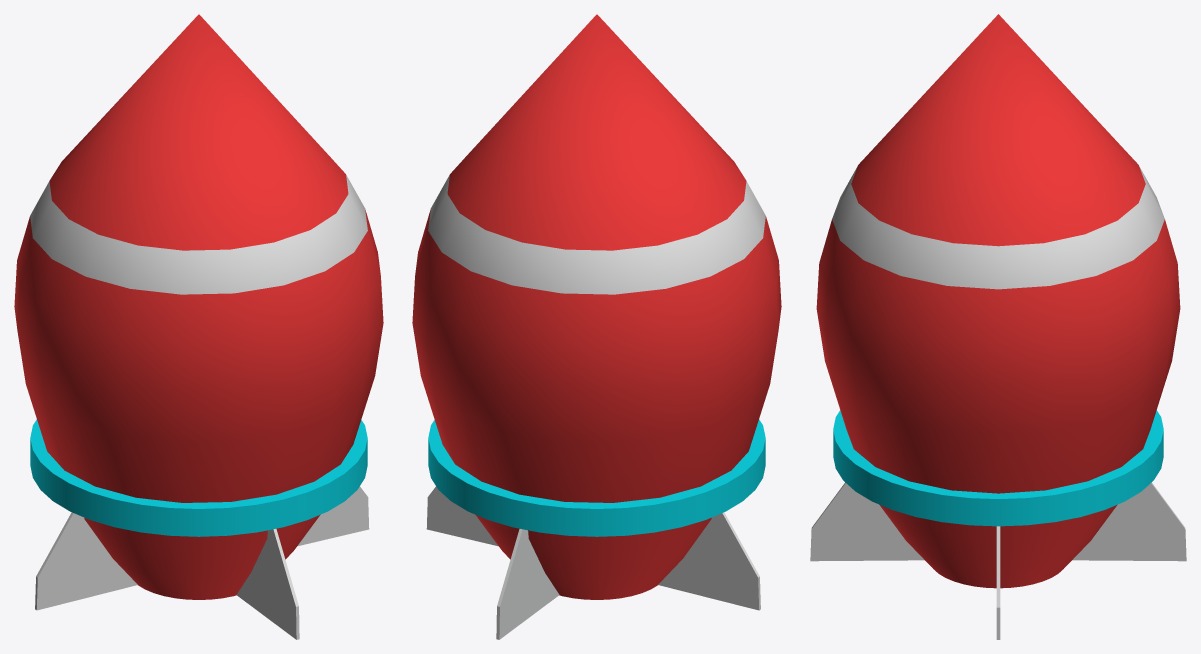
Rendered from Missile2.fbx.
The picture shows the model from 3 angles, left to right: view 1: azimuth 30°, elevation 25°; view 2: azimuth 150°, elevation 25°; view 3: azimuth 270°, elevation 25°; orthographic projection. The views are drawn at different scales.
Visible parts, largest first — view 1: polySurface51; view 2: polySurface51; view 3: polySurface51.
Boxes of the visible parts, x1,y1,x2,y2 form: polySurface51: (14,14,383,639); polySurface51: (412,14,781,639); polySurface51: (810,14,1186,639).
Bounding box in the file's own units: 5.86 × 9.36 × 5.86.
